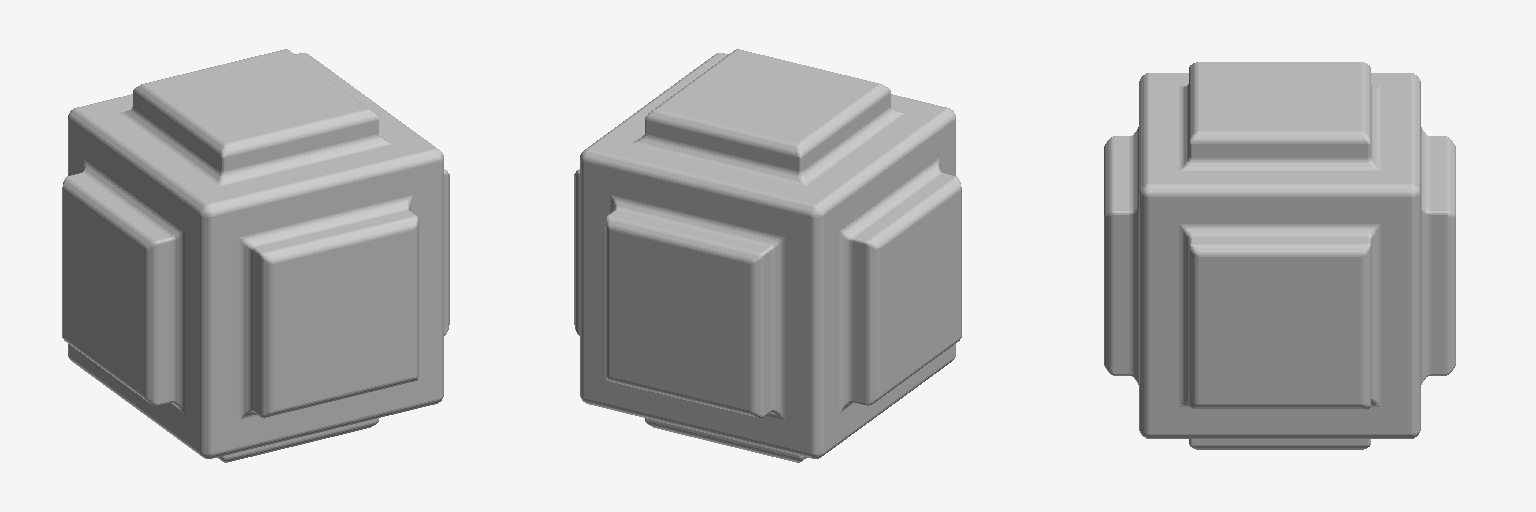
File: BevelCubeObject_high.obj
The picture shows the model from 3 angles: view 1: azimuth 30°, elevation 25°; view 2: azimuth 150°, elevation 25°; view 3: azimuth 270°, elevation 25°; orthographic projection.
Parts seen in each view (by area): view 1: BevelCubeObject_high; view 2: BevelCubeObject_high; view 3: BevelCubeObject_high.
Part boxes in pixels (x1,y1,x2,y2): BevelCubeObject_high: (62,49,449,462); BevelCubeObject_high: (574,49,961,462); BevelCubeObject_high: (1104,62,1455,449).
Size of the model in its own units: 2.5 by 2.5 by 2.5.